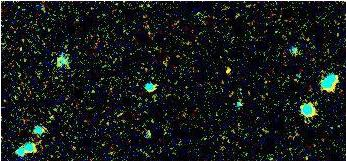star: (211, 58, 241, 88)
